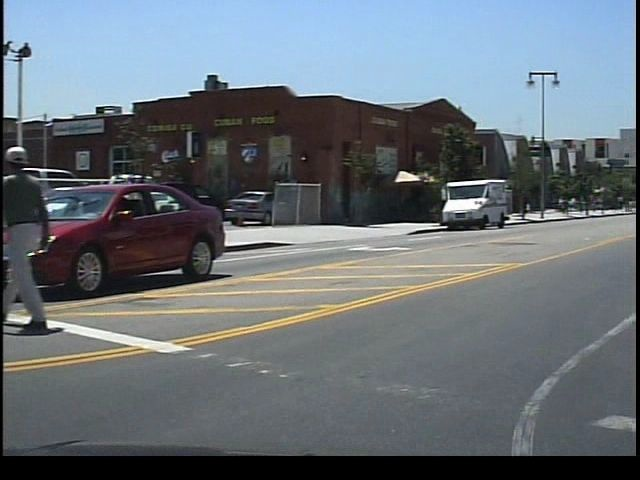person: (11, 138, 76, 330)
